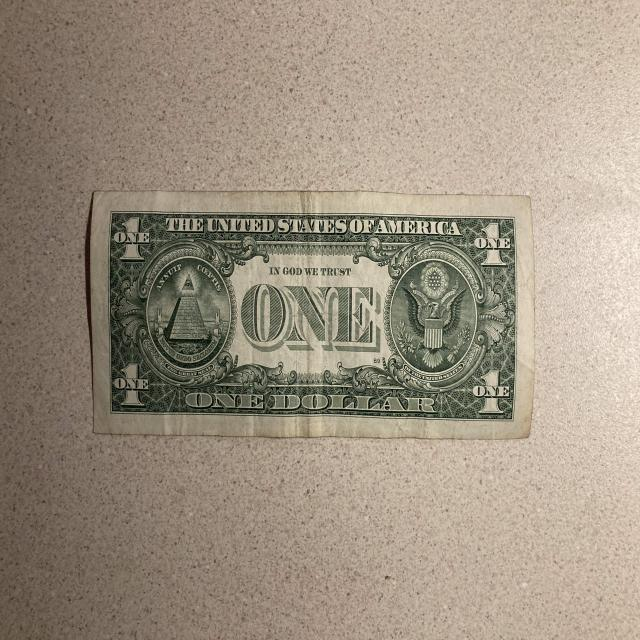one: (90, 188, 534, 440)
